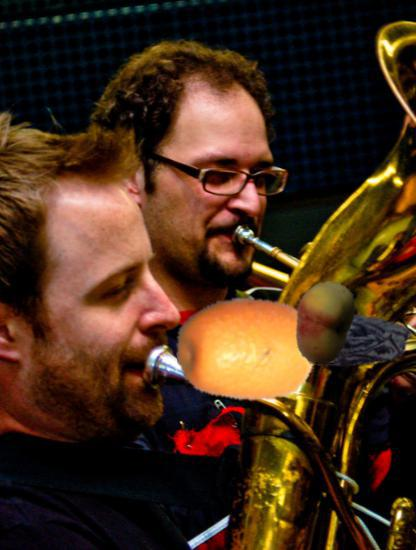Dates: (297, 283, 411, 397)
Kumquats: (176, 278, 318, 420)
Peach: (282, 281, 368, 367)
